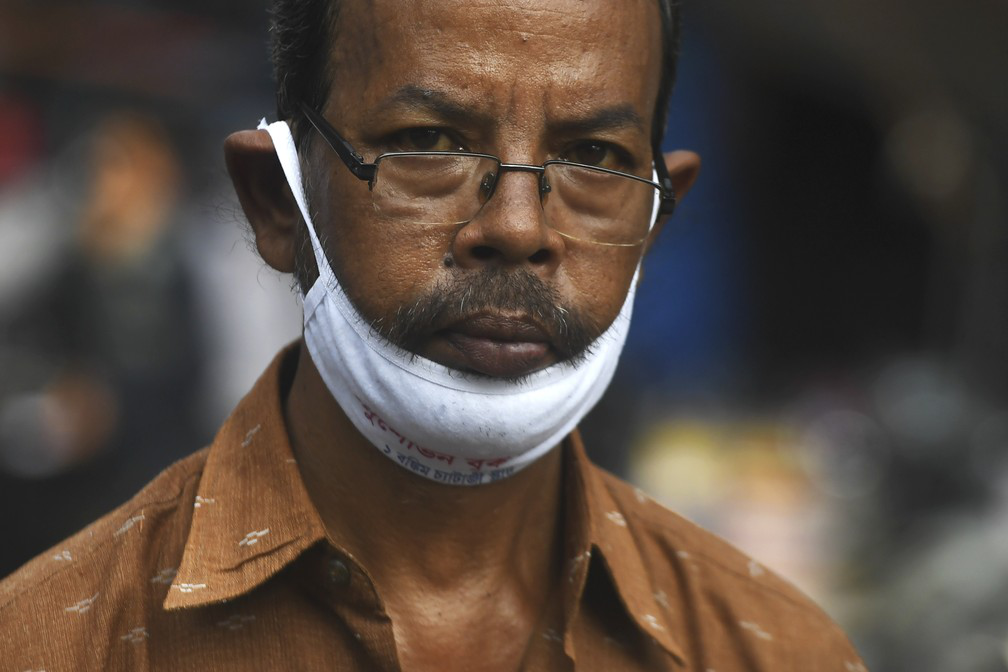mask_weared_incorrect: (218, 1, 719, 502)
